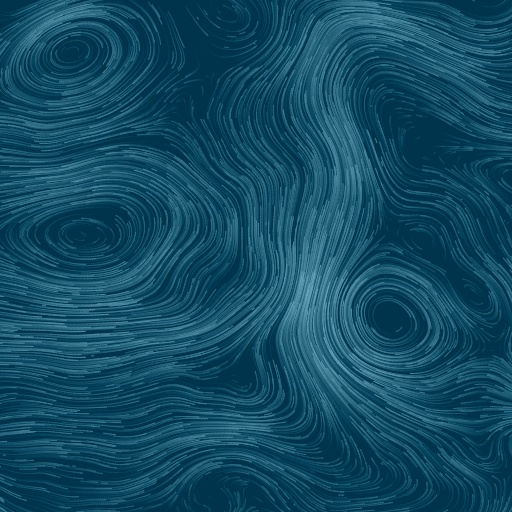eddy: (7, 182, 180, 295), (4, 2, 142, 109), (342, 268, 445, 368), (453, 272, 498, 320), (211, 1, 245, 27)
